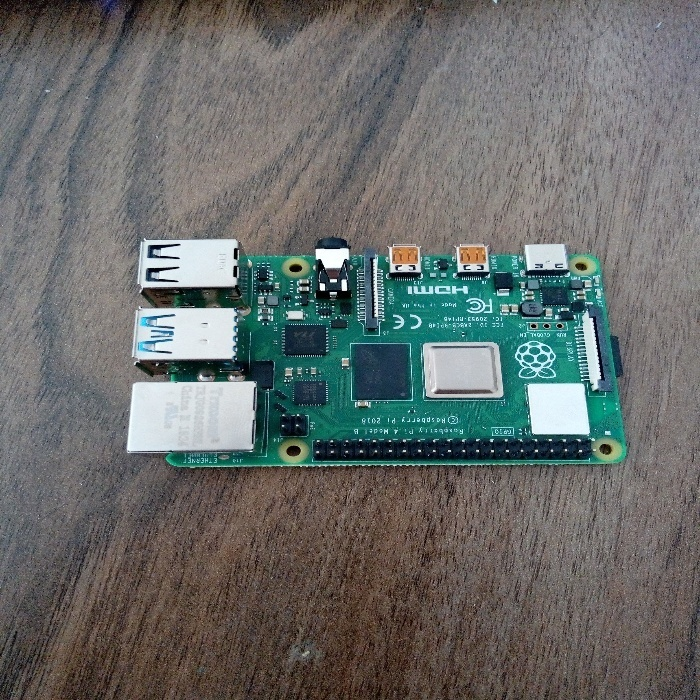raspberry: (120, 232, 641, 473)
